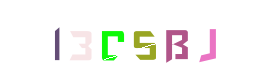1: (17, 0, 97, 80)
3: (70, 0, 150, 80)
B: (136, 0, 216, 80)
C: (99, 0, 179, 80)
J: (151, 0, 231, 80)
S: (103, 0, 183, 80)
